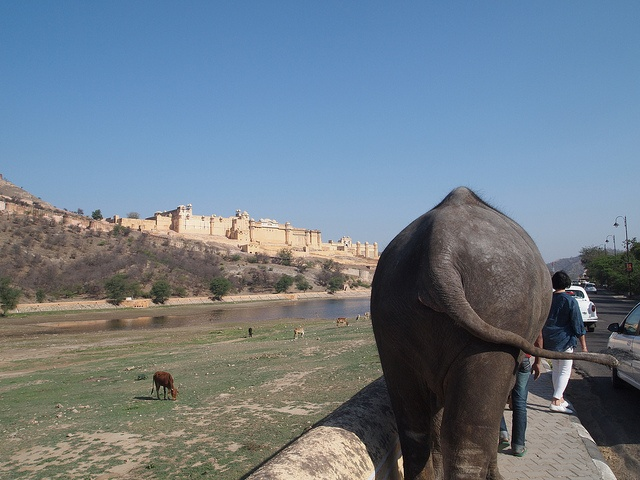elephant: (369, 184, 623, 480)
